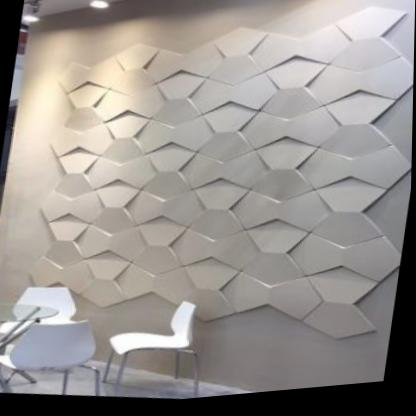Futech tiles: (49, 51, 403, 341)
